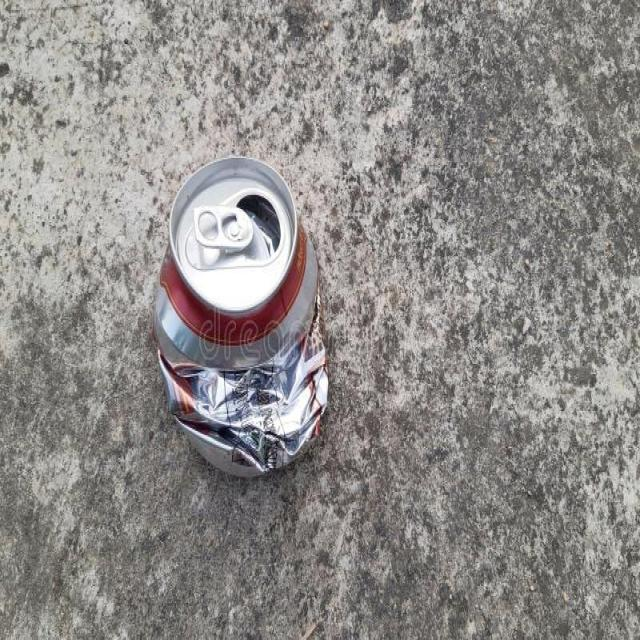can: (155, 157, 329, 481)
pop tab: (193, 202, 253, 246)
